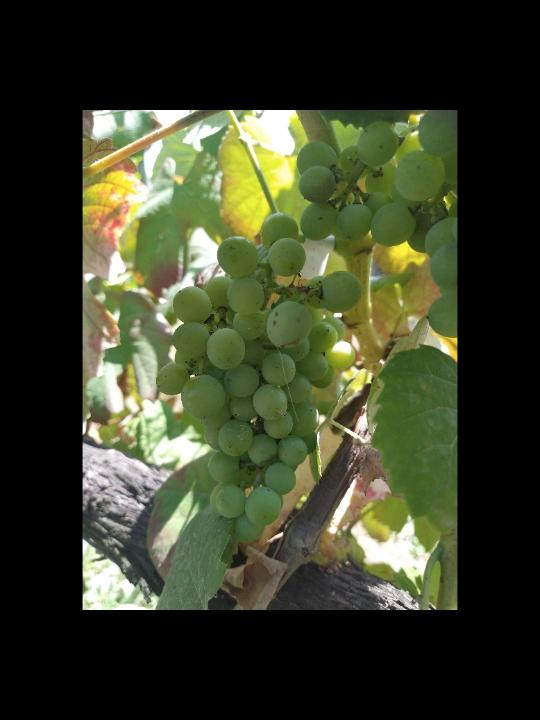grape: (156, 214, 362, 545)
